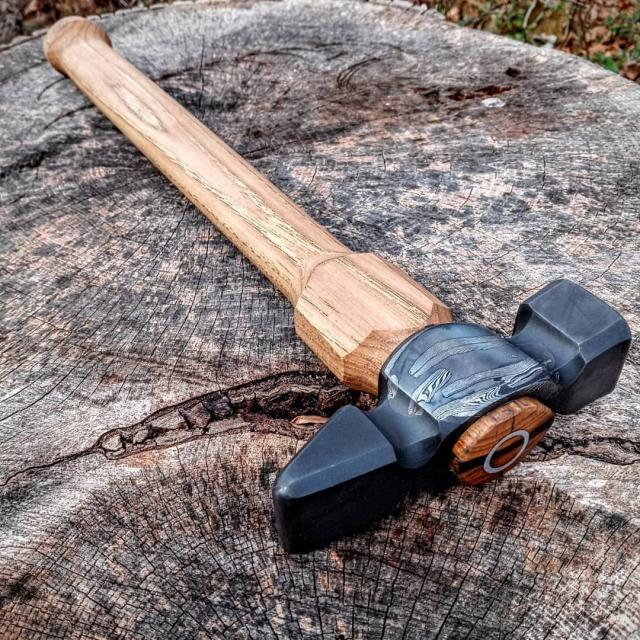hammer: (40, 11, 632, 560)
